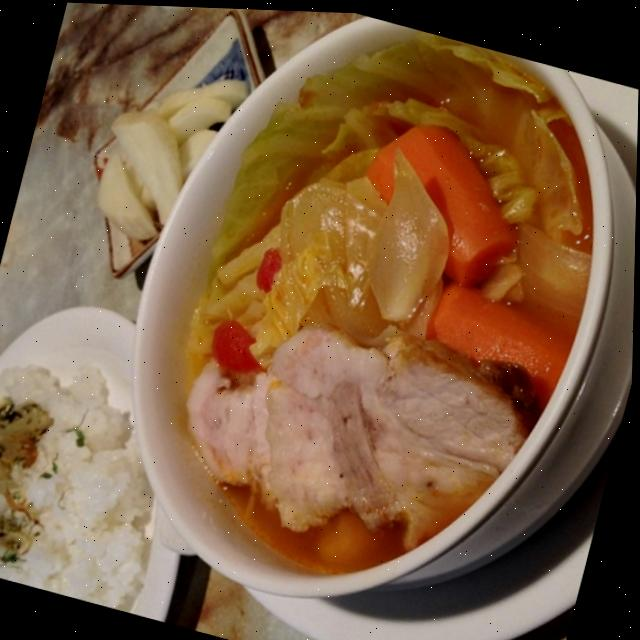汤锅炖物: (102, 3, 640, 640)
